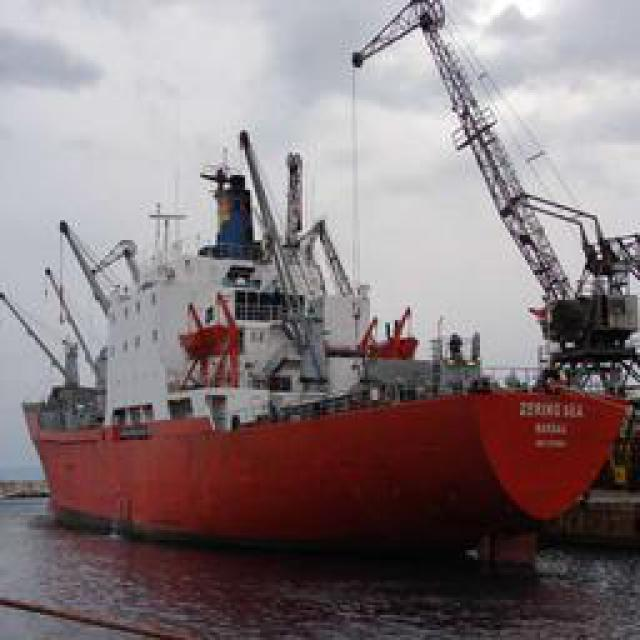Ship: (18, 53, 633, 561)
